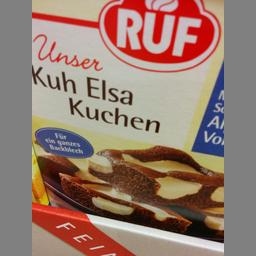cake: (31, 1, 222, 241)
